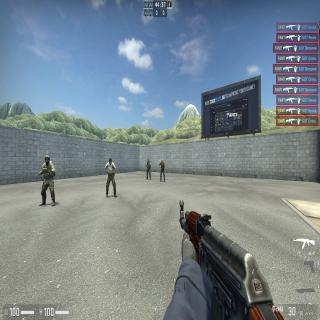CT-Body: (41, 155, 55, 205), (147, 159, 150, 179)
CT-Head: (44, 155, 50, 165), (148, 159, 149, 162)
T-Body: (105, 156, 115, 197), (160, 159, 166, 182)
T-Head: (109, 158, 112, 164), (161, 159, 163, 163)
